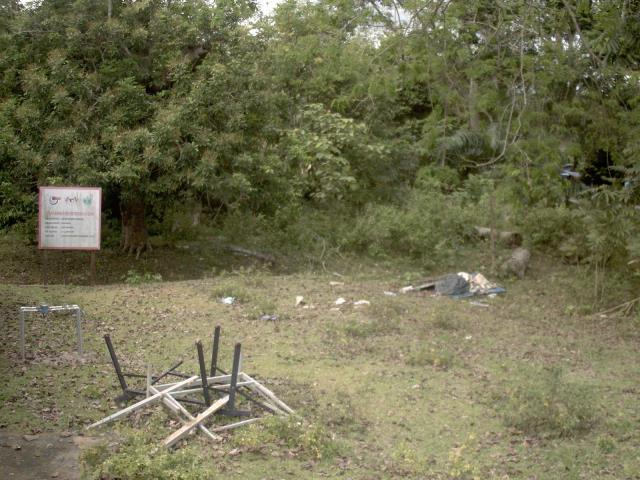ads_sign: (30, 179, 111, 258)
